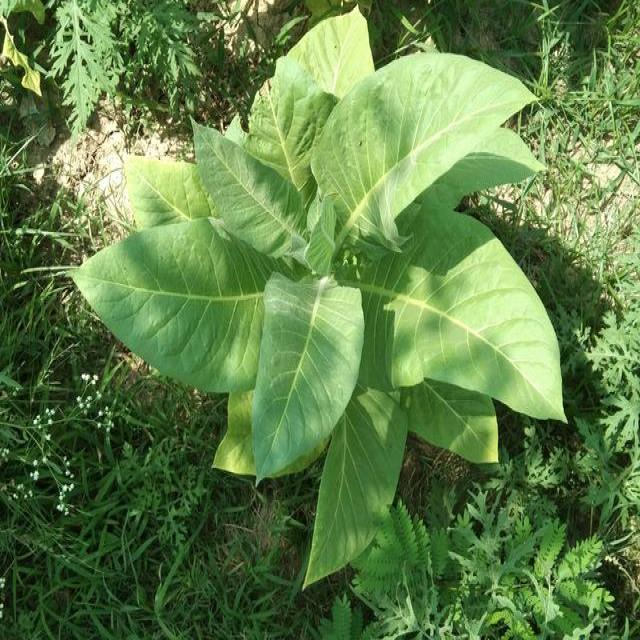crop: (62, 1, 571, 598)
